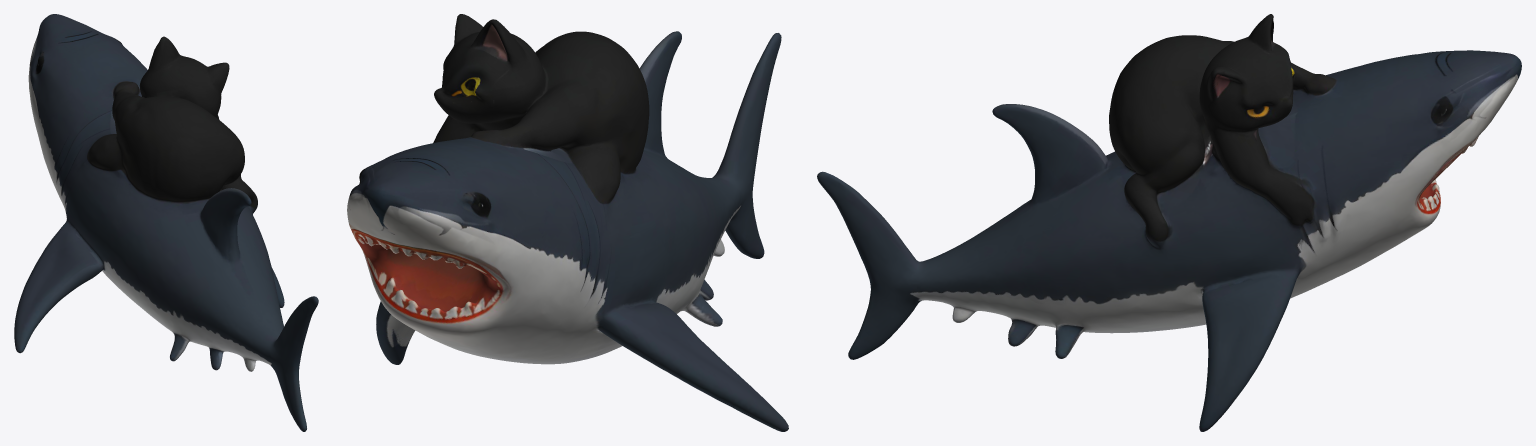
3 views of the same model, side by side, from view 1: azimuth 30°, elevation 25°; view 2: azimuth 150°, elevation 25°; view 3: azimuth 270°, elevation 25° (orthographic). The views are drawn at different scales.
Parts seen in each view (by area): view 1: tripo_node_9ecc4fa5-6b88-44f5-853e-1d2317ffd1ac; view 2: tripo_node_9ecc4fa5-6b88-44f5-853e-1d2317ffd1ac; view 3: tripo_node_9ecc4fa5-6b88-44f5-853e-1d2317ffd1ac.
Part boxes in pixels (box(x1,y1,x2,y2)): tripo_node_9ecc4fa5-6b88-44f5-853e-1d2317ffd1ac: box(14, 14, 318, 431); tripo_node_9ecc4fa5-6b88-44f5-853e-1d2317ffd1ac: box(347, 14, 788, 431); tripo_node_9ecc4fa5-6b88-44f5-853e-1d2317ffd1ac: box(817, 14, 1521, 431).
Bounding box in the file's own units: 0.5449 × 0.5323 × 0.9475.
1 material, 1 textured.
